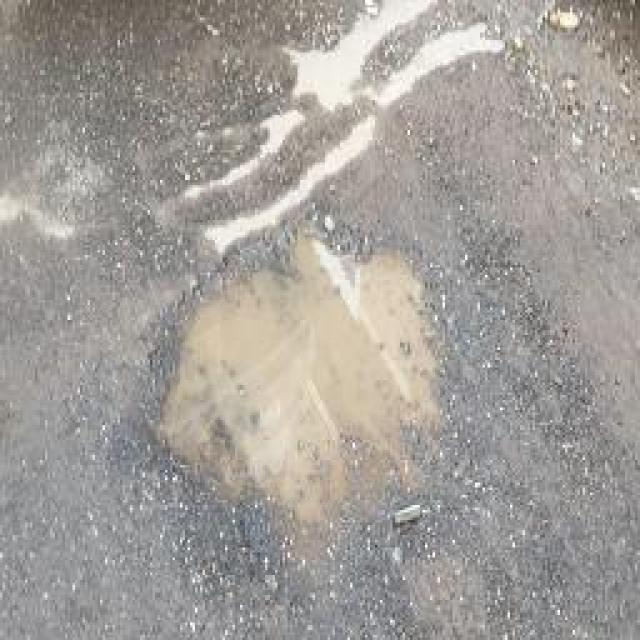puddle: (154, 231, 437, 528)
